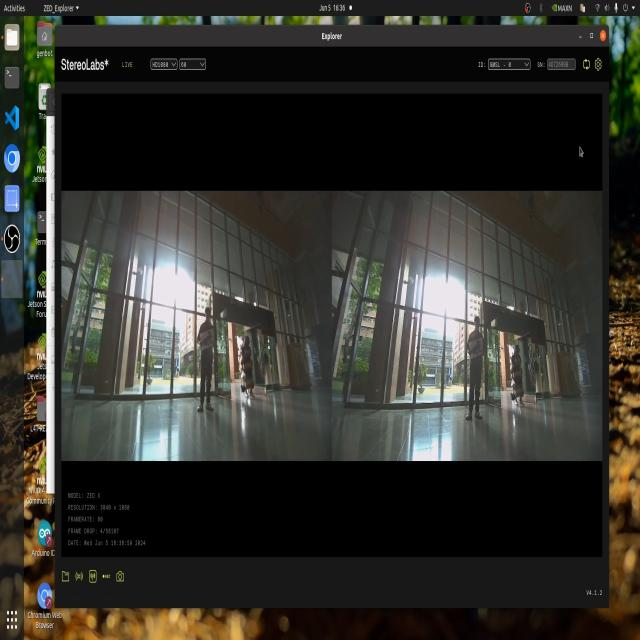blue: (462, 340, 485, 358), (198, 328, 215, 352)
